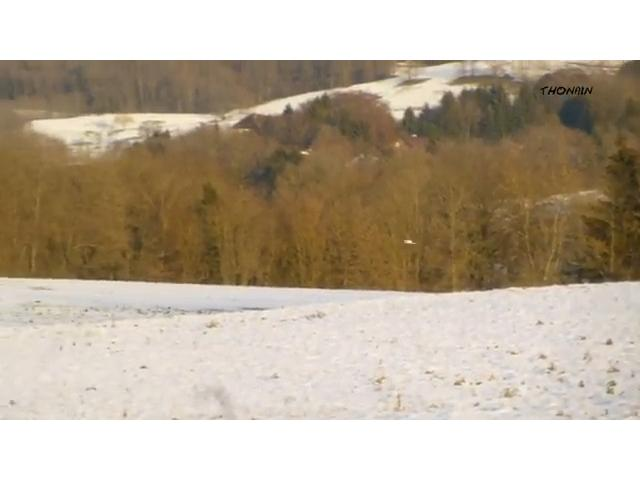Anti-Drone: (397, 234, 421, 252)
